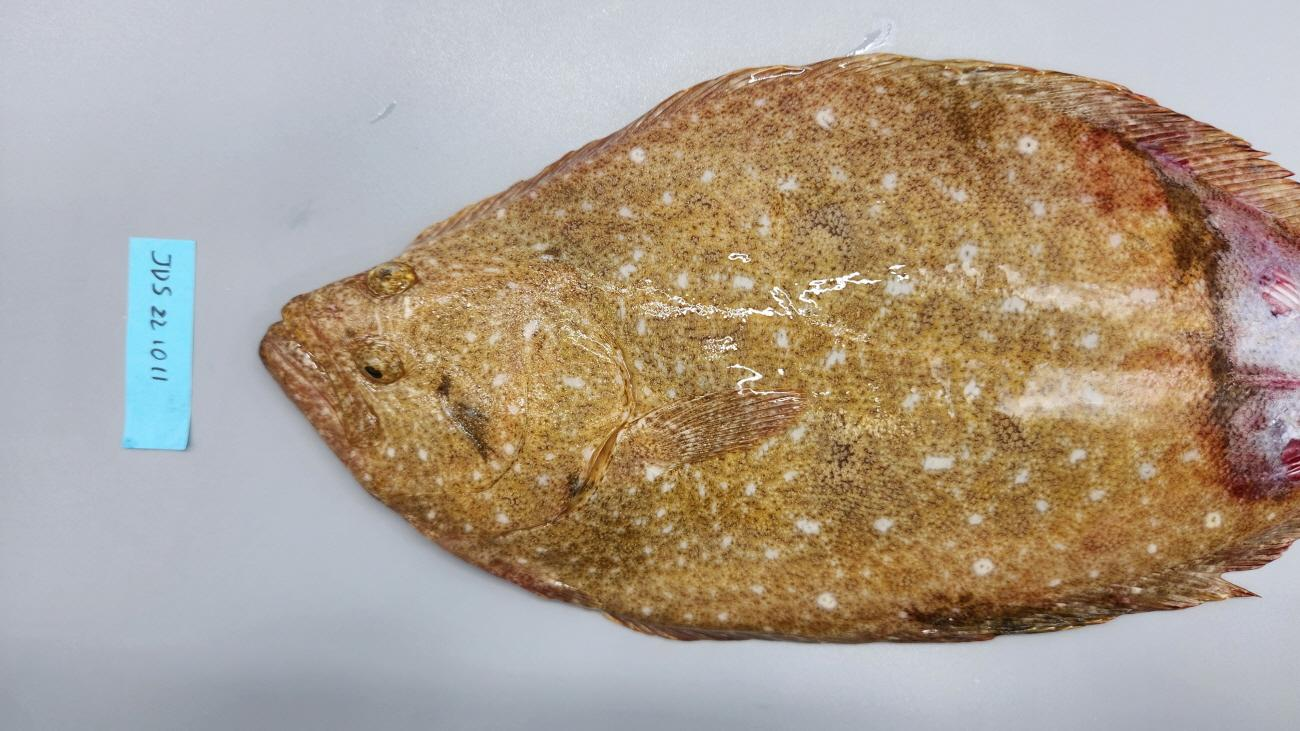VIDYU: (1120, 146, 1294, 494)
